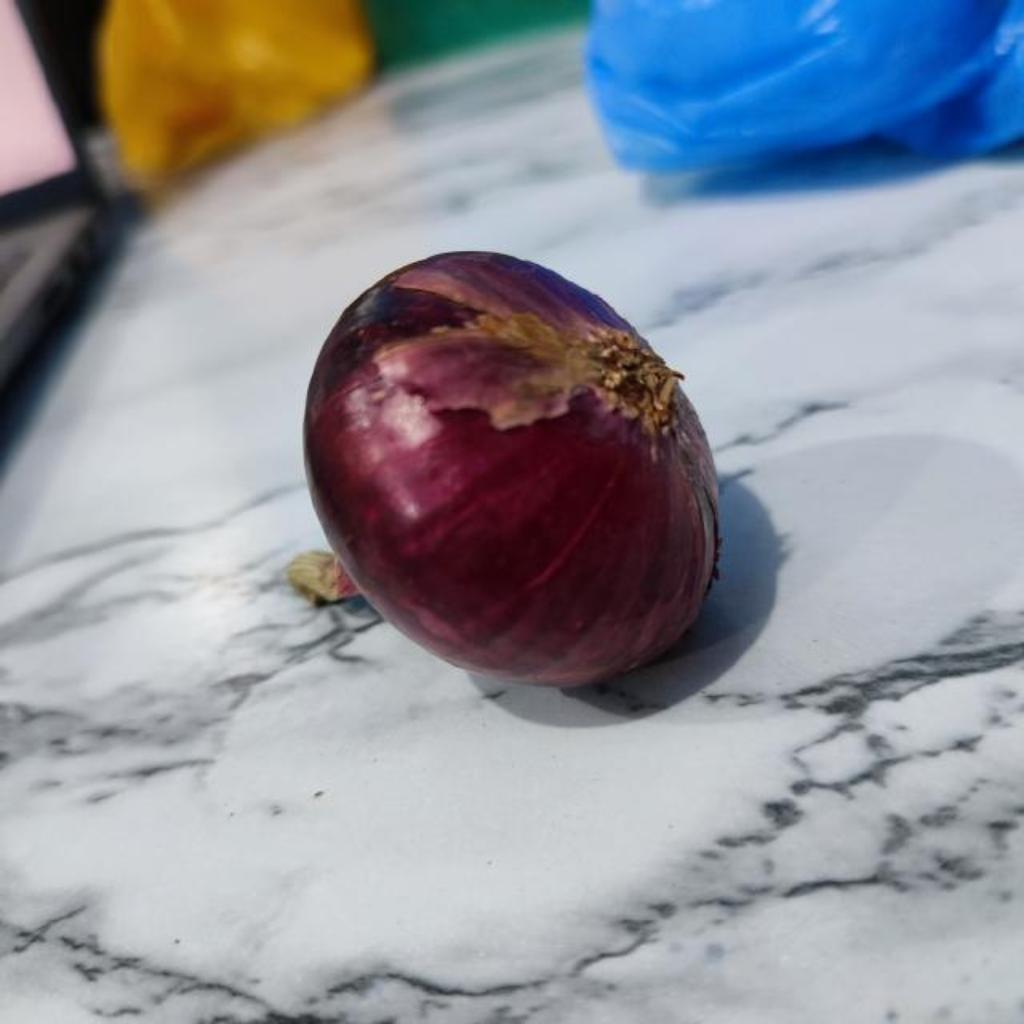Onion: (288, 251, 720, 687)
